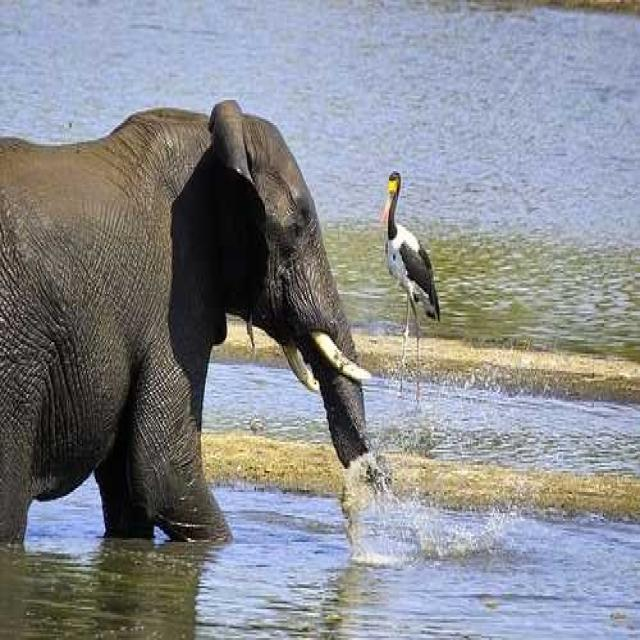Elephant: (0, 98, 387, 548)
